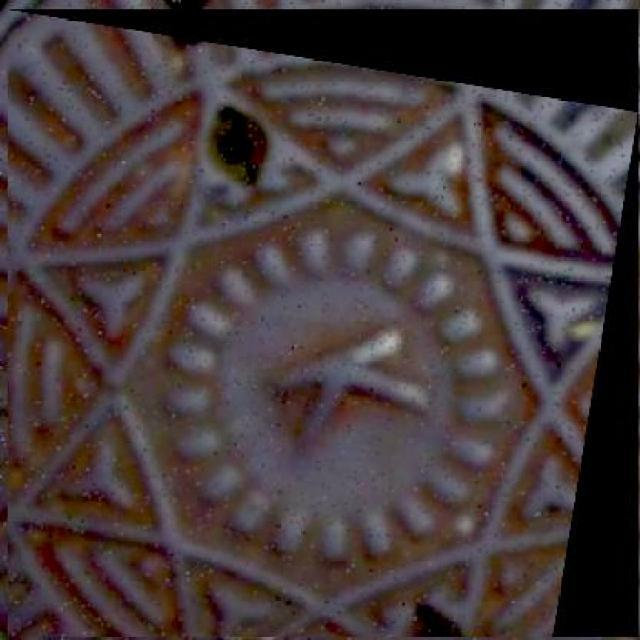Manhole: (7, 9, 638, 637)
